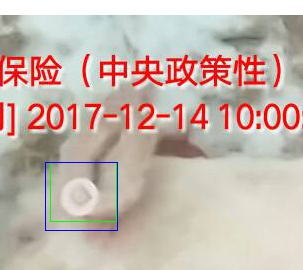text: (50, 162, 116, 221)
